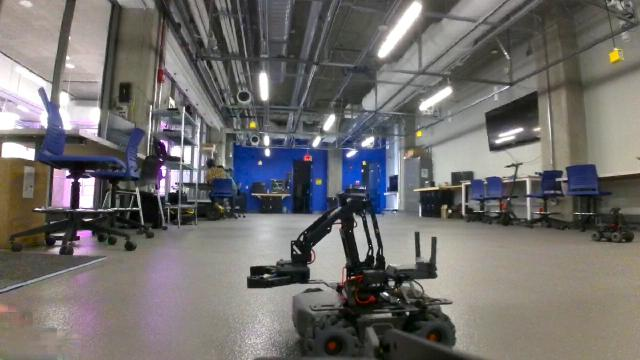robot: (244, 180, 468, 360)
